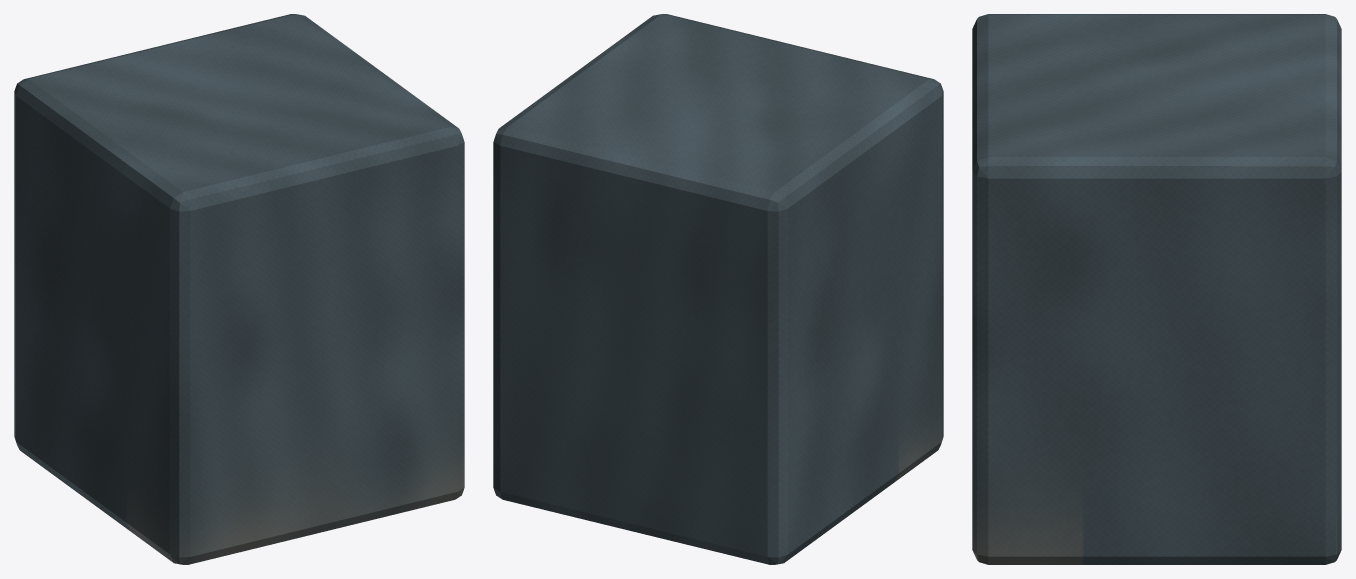
File: LeftUpperLeg.fbx
3 views of the same model, side by side, from view 1: azimuth 30°, elevation 25°; view 2: azimuth 150°, elevation 25°; view 3: azimuth 270°, elevation 25° (orthographic). The views are drawn at different scales.
Visible parts, largest first — view 1: LeftUpperLeg; view 2: LeftUpperLeg; view 3: LeftUpperLeg.
Boxes of the visible parts, <box> form: LeftUpperLeg: <box>14,14,464,564</box>; LeftUpperLeg: <box>493,14,943,564</box>; LeftUpperLeg: <box>972,14,1341,564</box>.
Size of the model in its own units: 1 by 1.22 by 1.
1 material, 1 textured.
